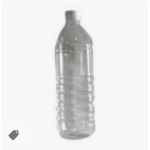Bottle: (56, 9, 96, 139)
